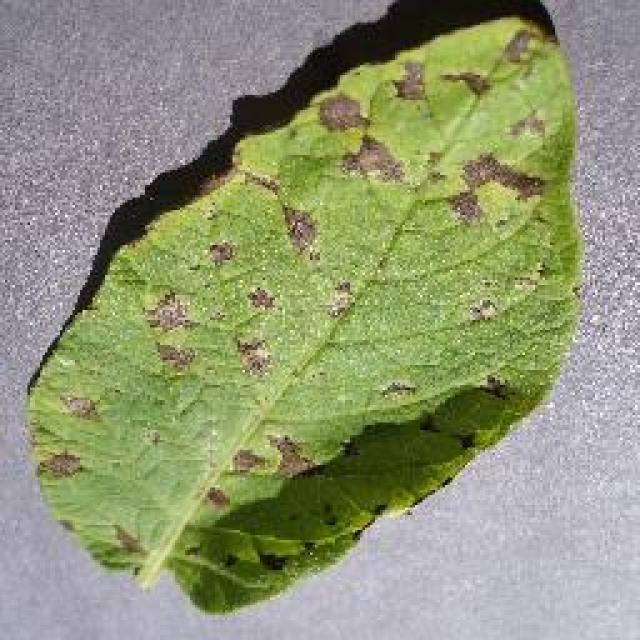Potato: (23, 0, 585, 615)
